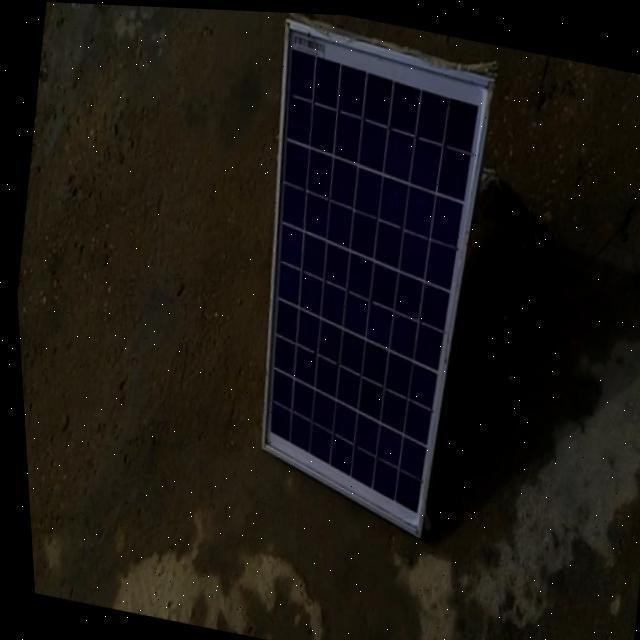Normal Solar Panel: (213, 14, 517, 542)
